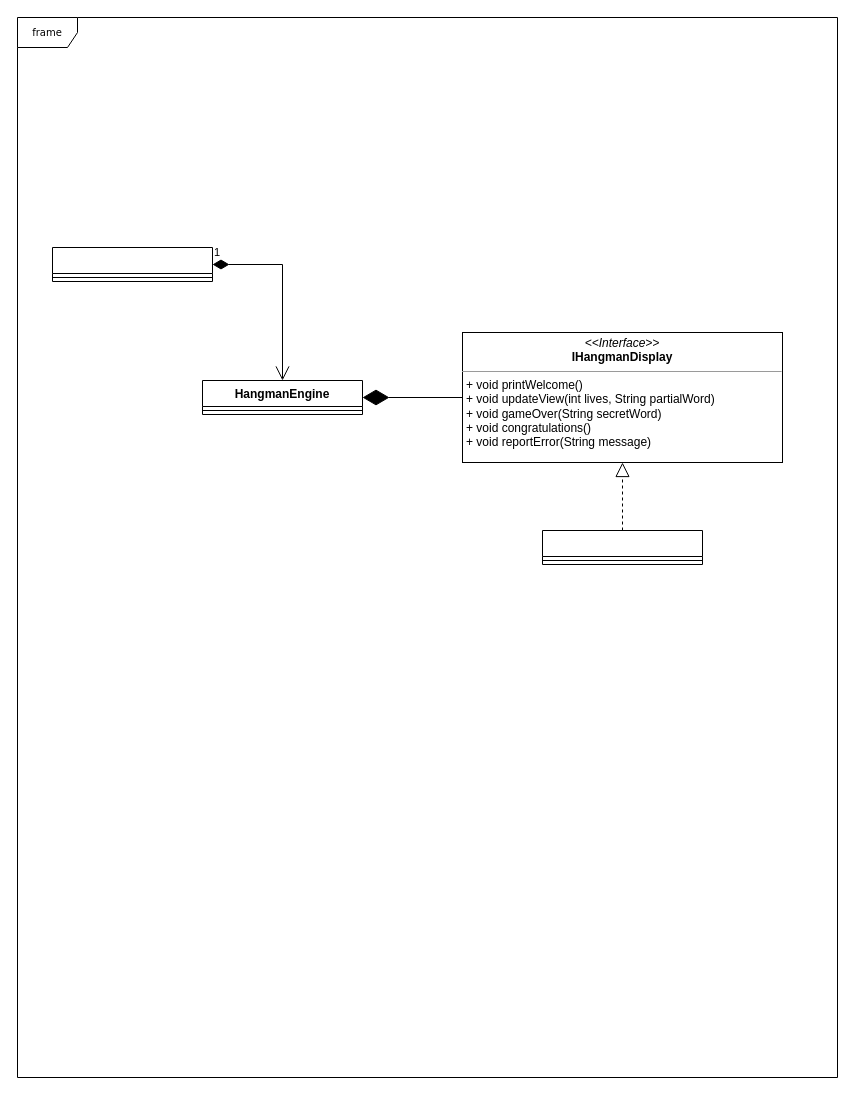
Image size: 855x1095. Some labels were removed from this diagram. The shapes that lost their labels are listed below. From the top down, each one's centre as x and y in pixels, then its label:
At point 132,264: "HangmanController".
At point 622,547: "TextInterface".
